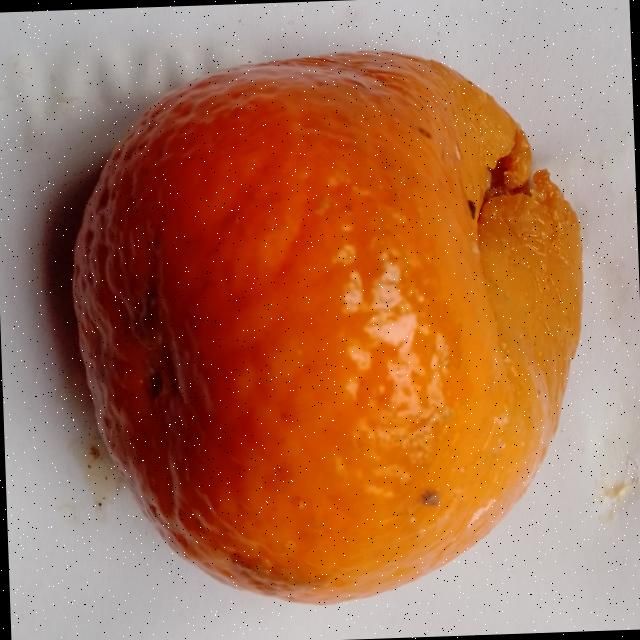Rotten: (59, 41, 596, 611)
